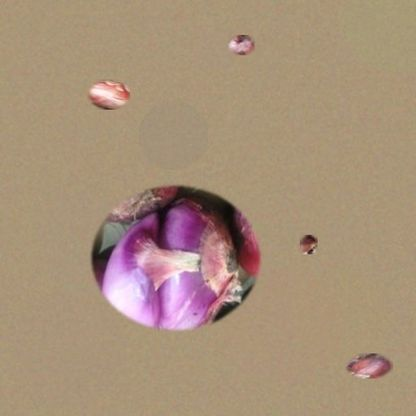damaged: (86, 181, 266, 334)
rotten: (88, 80, 130, 110), (345, 353, 393, 379), (228, 35, 255, 55)
sprouted: (300, 235, 318, 254)
